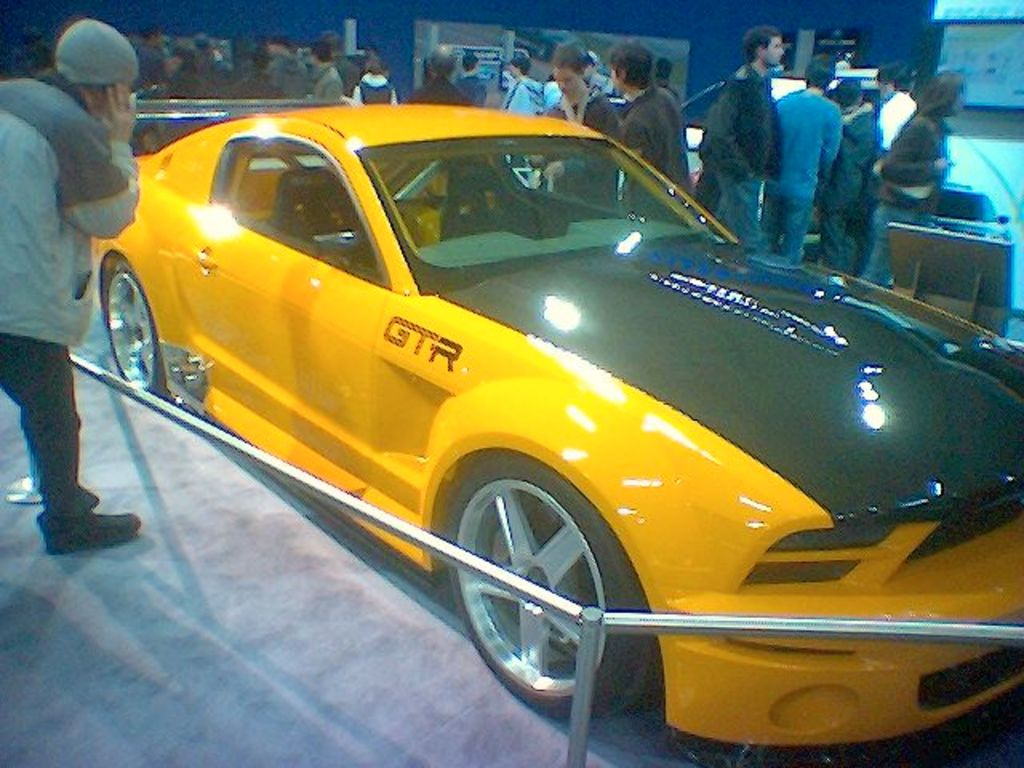Person: (130, 21, 967, 284), (0, 15, 142, 556)
